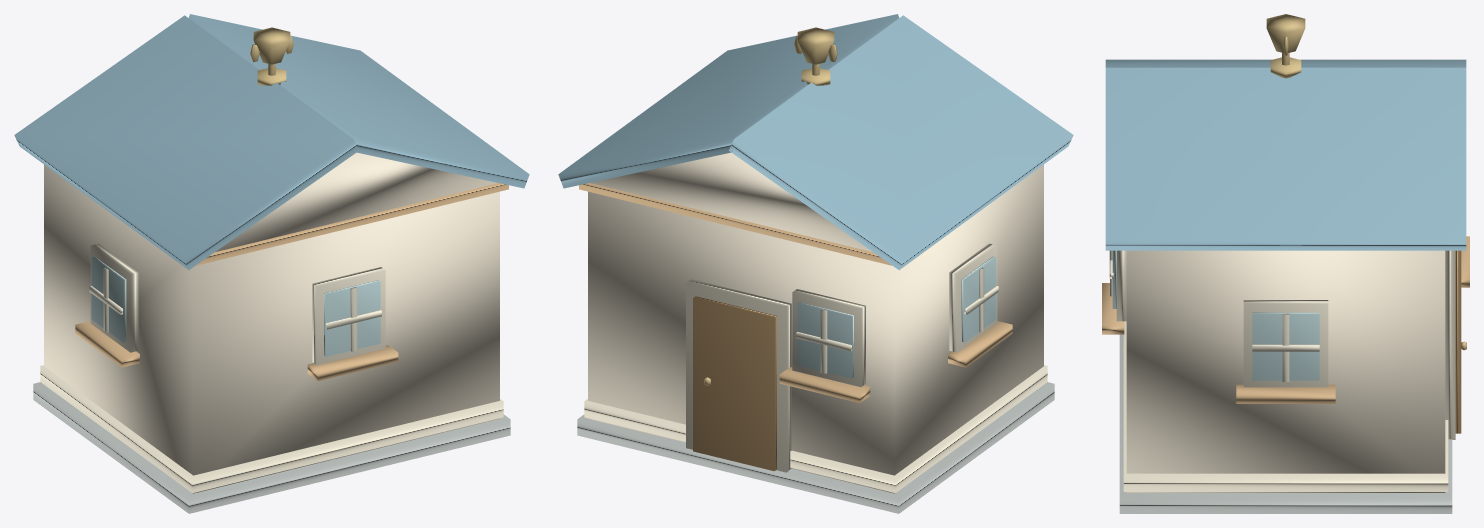
The model's file is records_low.glb.
The picture shows the model from 3 angles, left to right: view 1: azimuth 30°, elevation 25°; view 2: azimuth 150°, elevation 25°; view 3: azimuth 270°, elevation 25°; orthographic projection. The views are drawn at different scales.
Bounding box in the file's own units: 3.62 × 3.81 × 3.12.
